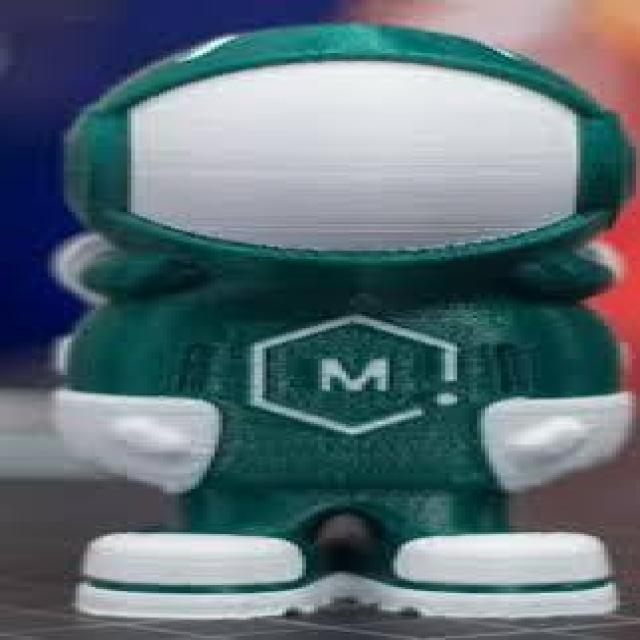Without deffect: (40, 21, 640, 625)
